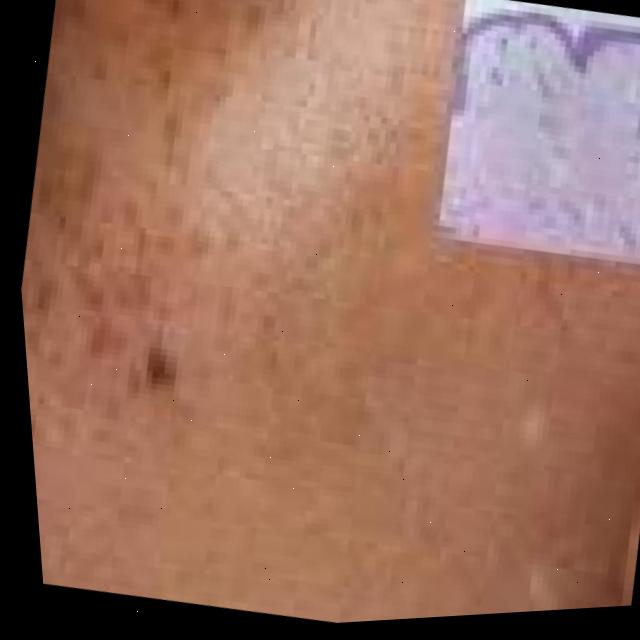Melasma: (0, 0, 271, 435)
